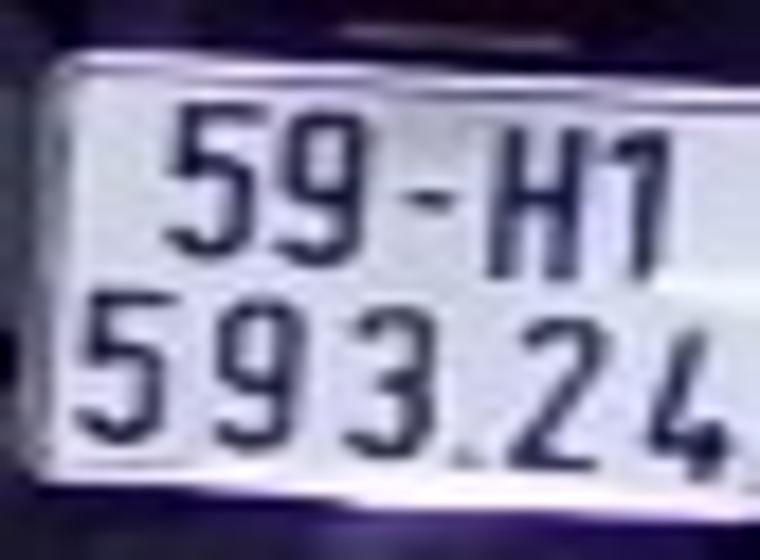-: (399, 173, 457, 219)
.: (444, 447, 485, 474)
1: (603, 126, 672, 283)
2: (515, 307, 601, 474)
3: (344, 307, 433, 466)
4: (651, 328, 731, 489)
5: (175, 94, 260, 260), (86, 290, 173, 447)
9: (275, 109, 363, 267), (218, 299, 299, 452)
H: (487, 123, 589, 279)
